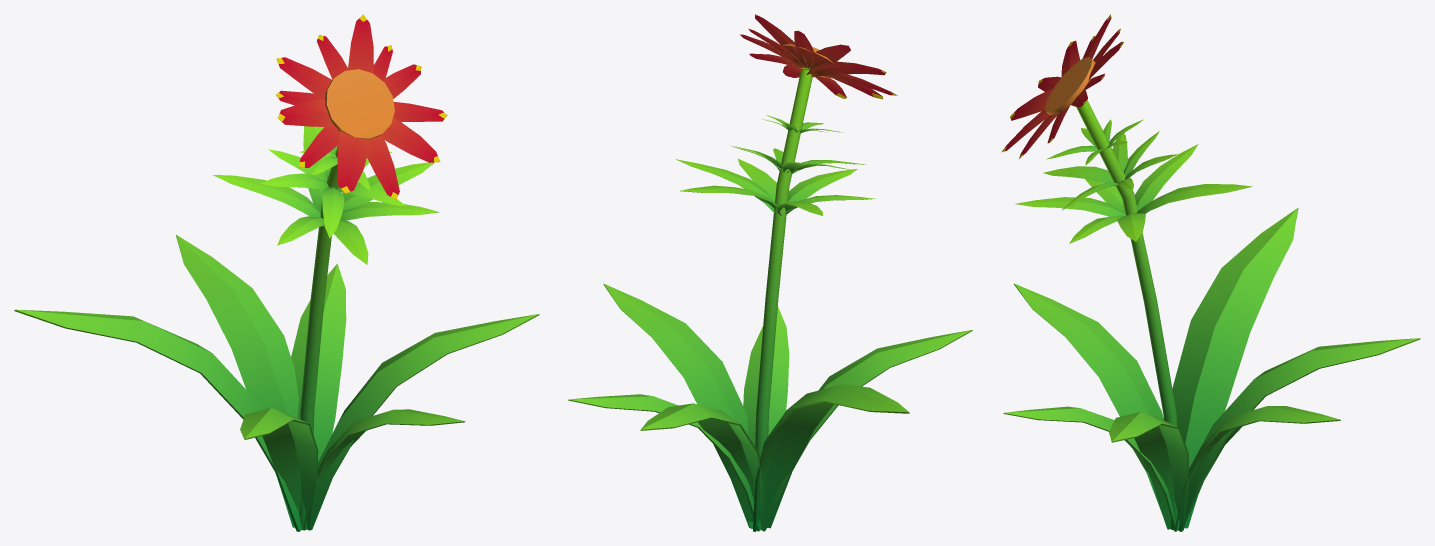
The model's file is ENV_Flower.fbx.
3 renders of one model, left to right at view 1: azimuth 30°, elevation 25°; view 2: azimuth 150°, elevation 25°; view 3: azimuth 270°, elevation 25°, orthographic. The views are drawn at different scales.
Visible parts, largest first — view 1: Flower; view 2: Flower; view 3: Flower.
Part boxes in pixels (x1,y1,x2,y2): Flower: (14,14,539,531); Flower: (568,14,972,531); Flower: (1001,14,1420,531).
Size of the model in its own units: 43.31 by 50.85 by 38.58.
